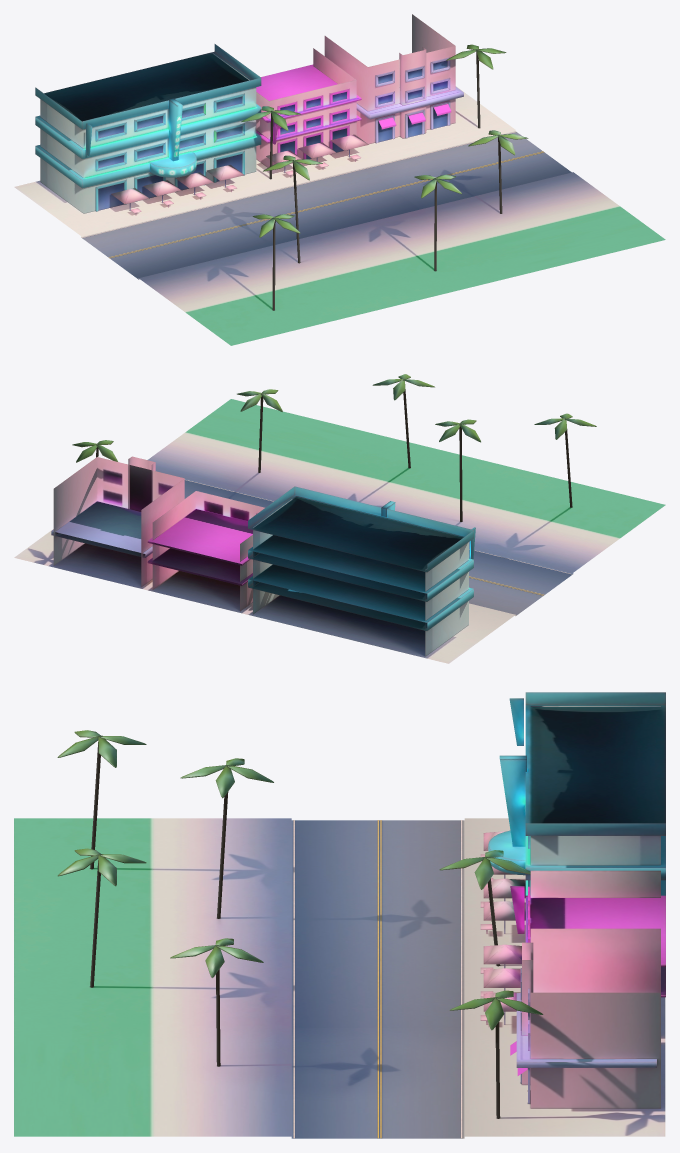
The model's file is roadBuildingVThree.glb.
3 views of the same model, one above another, from view 1: azimuth 30°, elevation 25°; view 2: azimuth 150°, elevation 25°; view 3: azimuth 270°, elevation 25° (orthographic). The views are drawn at different scales.
Visible parts, largest first — view 1: buildingOne.001; view 2: buildingOne.001; view 3: buildingOne.001.
Boxes of the visible parts, x1,y1,x2,y2 form: buildingOne.001: [14, 14, 665, 345]; buildingOne.001: [14, 374, 665, 663]; buildingOne.001: [14, 692, 665, 1138].
Size of the model in its own units: 60 by 13.43 by 51.94.
Materials: 1 (1 with a texture image).
